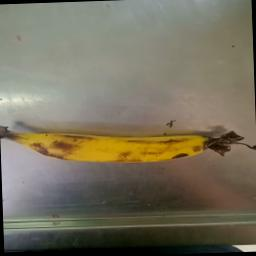Banana Overripe: (4, 88, 254, 190)
